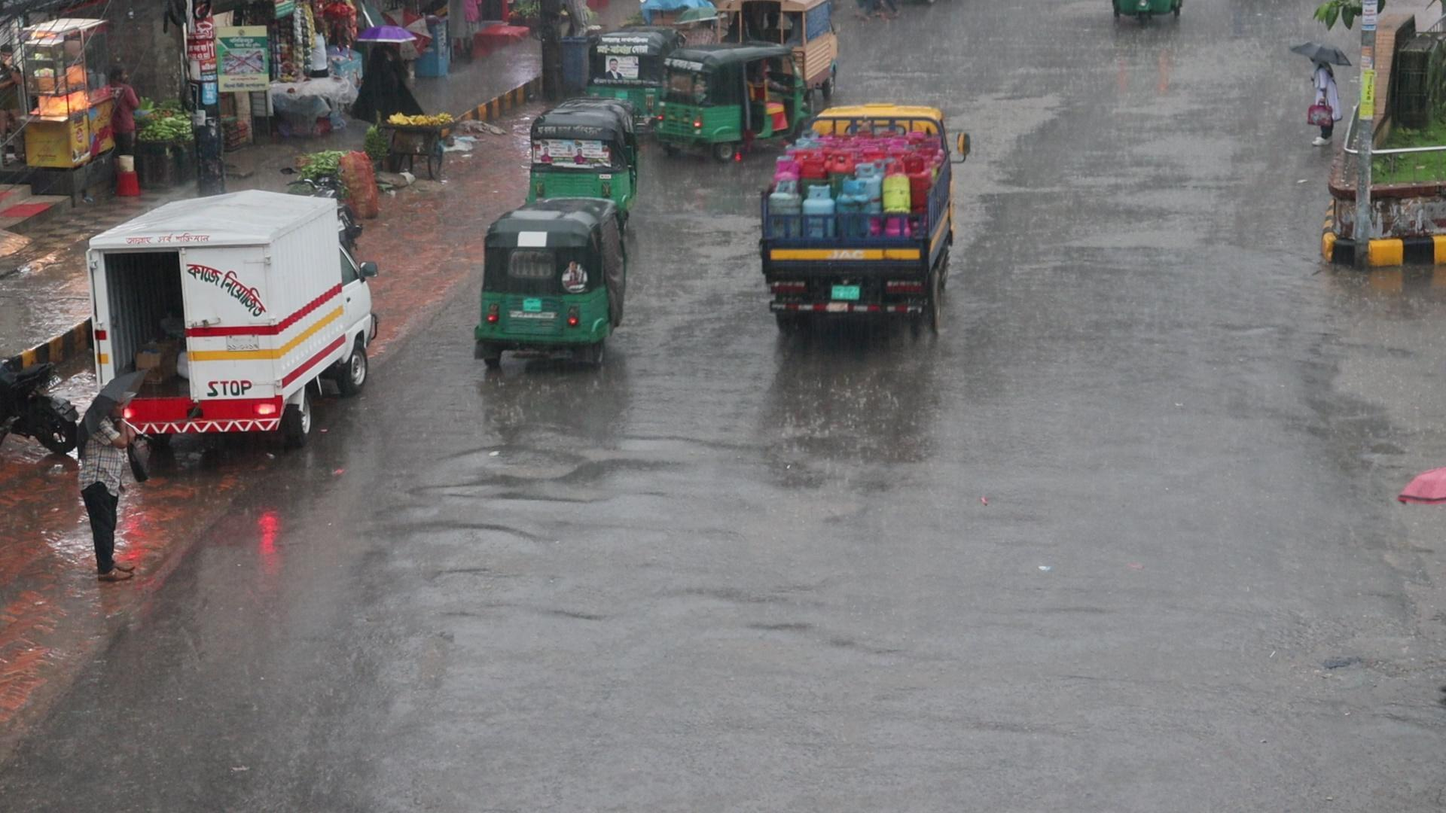Truck: (757, 100, 970, 323)
